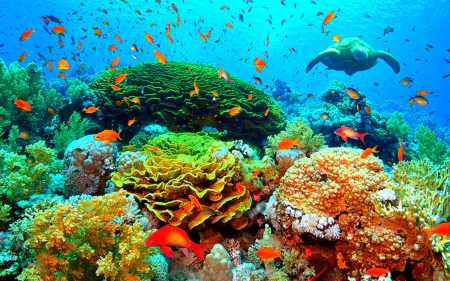fish: (139, 220, 206, 261), (332, 125, 368, 143), (92, 127, 126, 145), (271, 135, 306, 149), (251, 248, 283, 263), (148, 50, 170, 69), (404, 92, 428, 106), (54, 57, 68, 72)
trutle: (301, 35, 404, 86)
